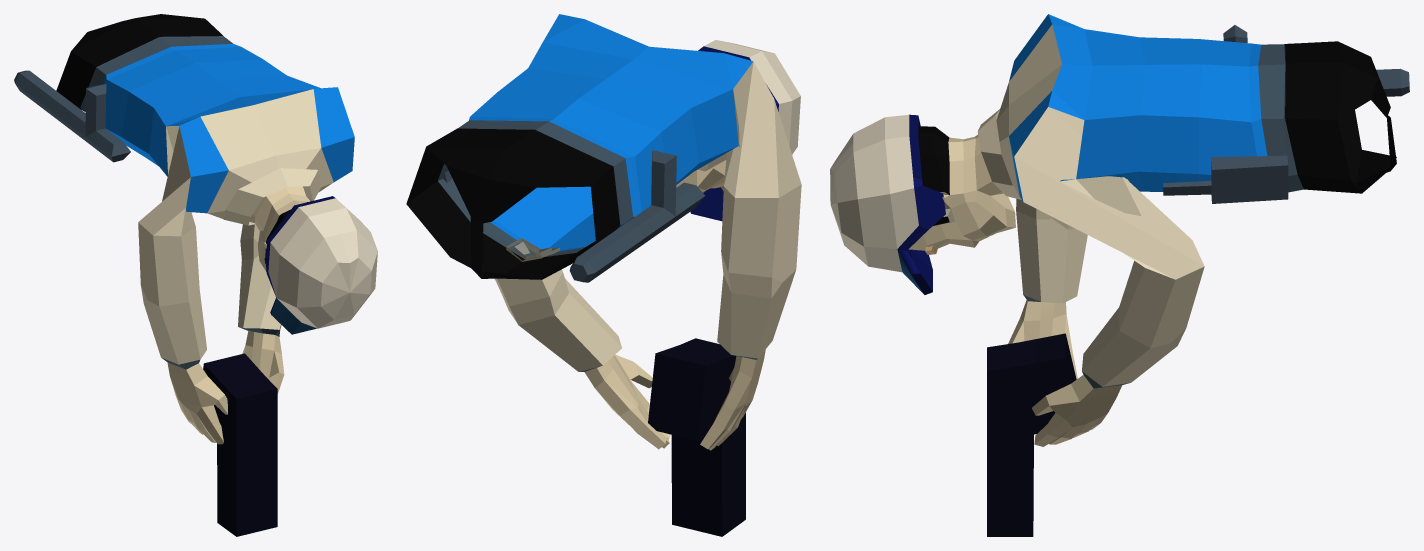
The model's file is 238_enemy_cop_japan.gltf.
The picture shows the model from 3 angles, left to right: view 1: azimuth 30°, elevation 25°; view 2: azimuth 150°, elevation 25°; view 3: azimuth 270°, elevation 25°; orthographic projection. The views are drawn at different scales.
Parts seen in each view (by area): view 1: enemy_cop_japan; view 2: enemy_cop_japan; view 3: enemy_cop_japan.
Part boxes in pixels (<box>): enemy_cop_japan: <box>14,14,377,536</box>; enemy_cop_japan: <box>406,14,801,536</box>; enemy_cop_japan: <box>830,14,1409,536</box>.
Size of the model in its own units: 1.04 by 1.88 by 2.04.
Materials: 1 (1 with a texture image).
